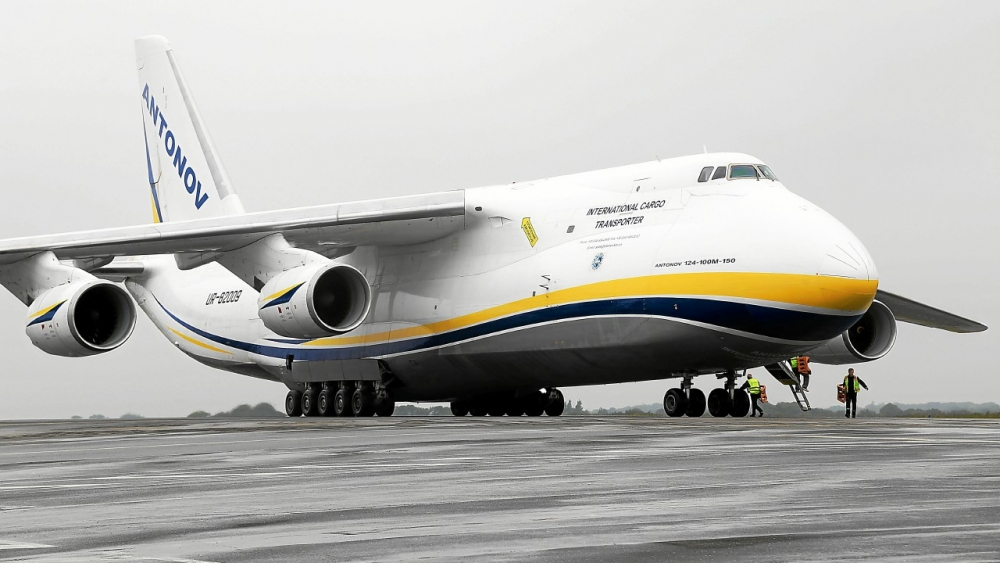Aeronef_commercial: (1, 33, 991, 426)
